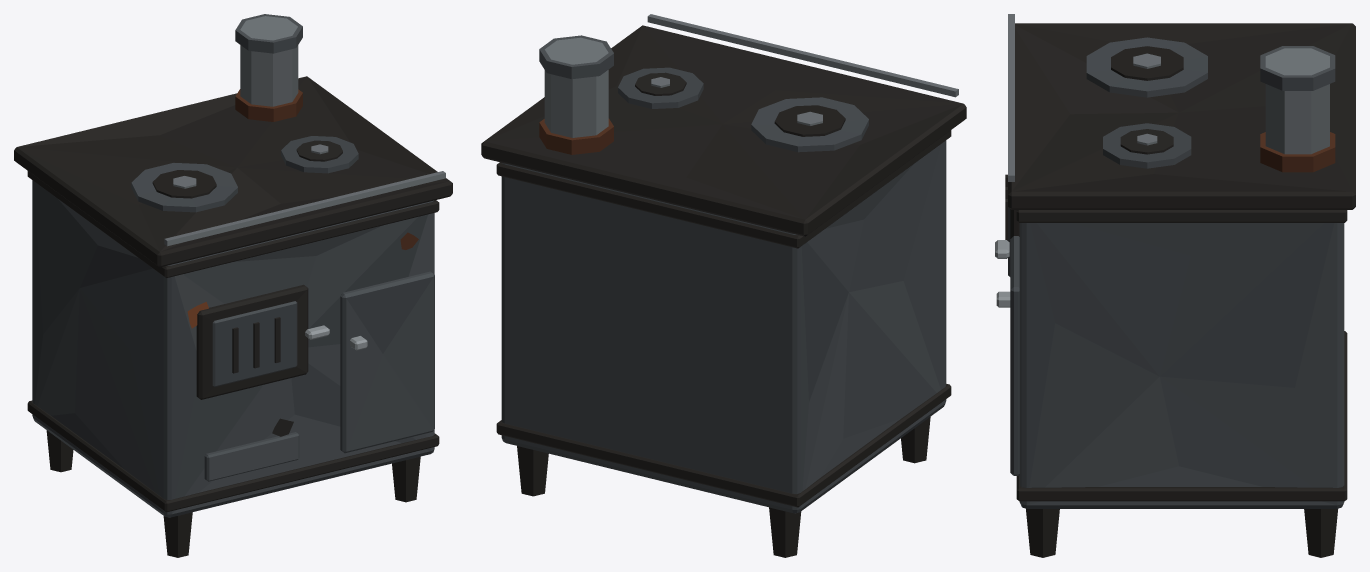
File: stove_cook_drovyanaya_idle.glb
The picture shows the model from 3 angles, left to right: view 1: azimuth 30°, elevation 25°; view 2: azimuth 150°, elevation 25°; view 3: azimuth 270°, elevation 25°; orthographic projection. The views are drawn at different scales.
Parts seen in each view (by area): view 1: stove_cook_drovyanaya_idle; view 2: stove_cook_drovyanaya_idle; view 3: stove_cook_drovyanaya_idle.
Part boxes in pixels (x1,y1,x2,y2): stove_cook_drovyanaya_idle: (14,14,452,557); stove_cook_drovyanaya_idle: (481,14,966,557); stove_cook_drovyanaya_idle: (995,14,1355,557).
Size of the model in its own units: 0.7 by 0.9 by 0.6225.
1 material, 1 textured.
